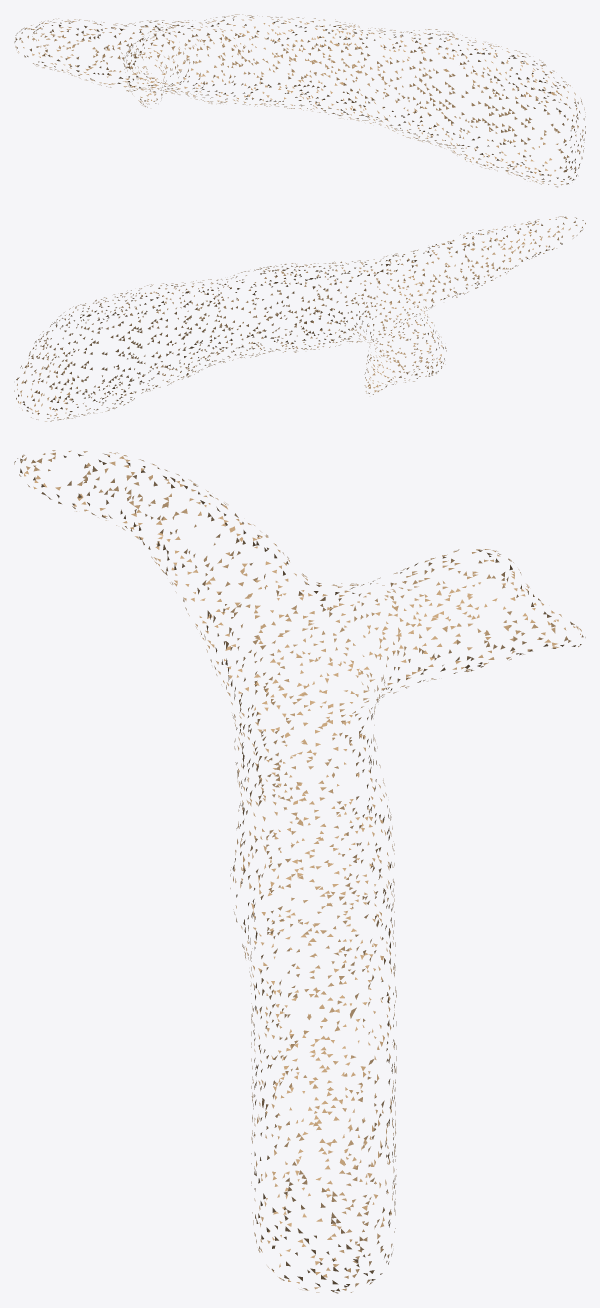
File: morph_006.glb
The picture shows the model from 3 angles, top to bottom: view 1: azimuth 30°, elevation 25°; view 2: azimuth 150°, elevation 25°; view 3: azimuth 270°, elevation 25°; orthographic projection. The views are drawn at different scales.
Size of the model in its own units: 121 by 63.03 by 70.44.
